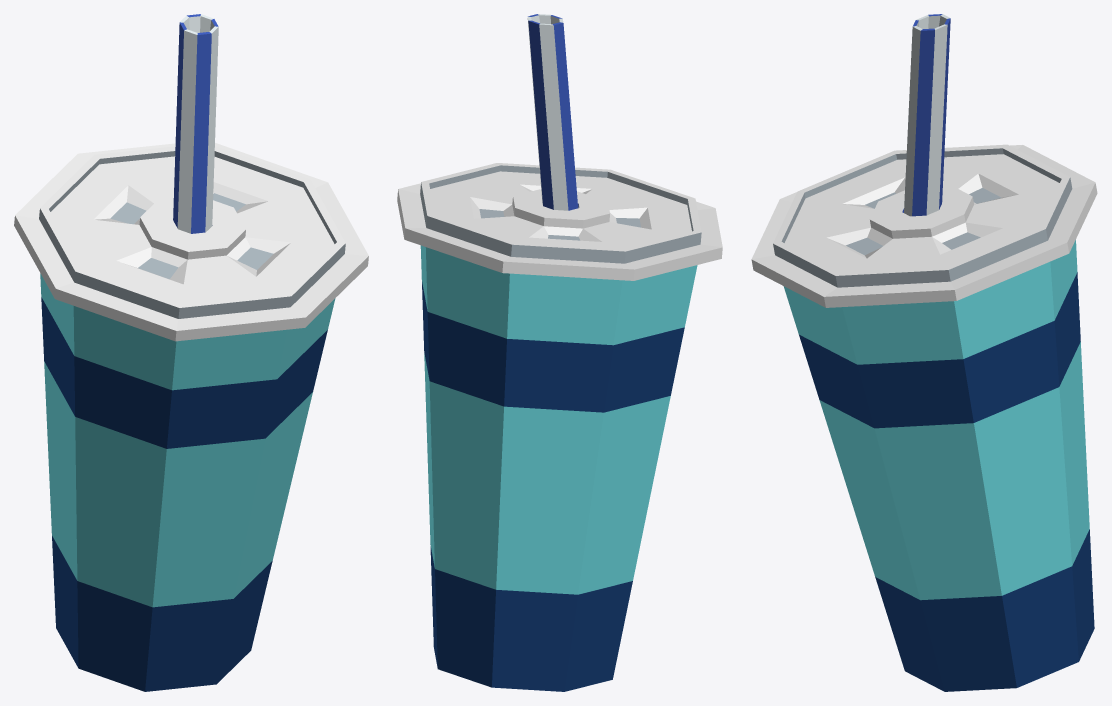
File: Potion.BigSippy.fbx
3 views of the same model, side by side, from view 1: azimuth 30°, elevation 25°; view 2: azimuth 150°, elevation 25°; view 3: azimuth 270°, elevation 25° (orthographic). The views are drawn at different scales.
Visible parts, largest first — view 1: Potion.BigSippy; view 2: Potion.BigSippy; view 3: Potion.BigSippy.
Boxes of the visible parts, <box> form: Potion.BigSippy: <box>14,14,368,691</box>; Potion.BigSippy: <box>397,14,722,691</box>; Potion.BigSippy: <box>751,14,1097,691</box>.
Size of the model in its own units: 53.7 by 110 by 53.32.
